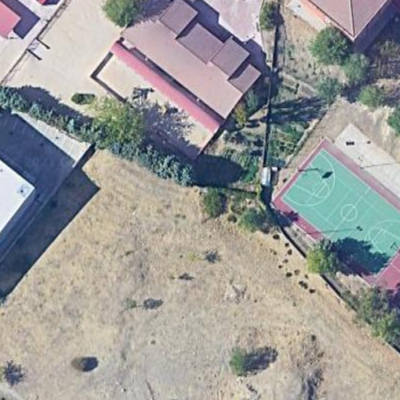tree: (351, 281, 400, 343), (94, 94, 152, 144), (312, 21, 351, 71), (304, 236, 345, 280), (101, 1, 149, 30), (345, 49, 378, 90), (228, 343, 259, 382), (165, 149, 196, 187), (242, 199, 270, 234), (360, 81, 386, 116), (258, 5, 284, 37), (58, 110, 85, 139), (200, 187, 224, 219), (6, 86, 29, 115), (143, 147, 165, 173), (30, 98, 50, 125), (244, 89, 263, 115)
